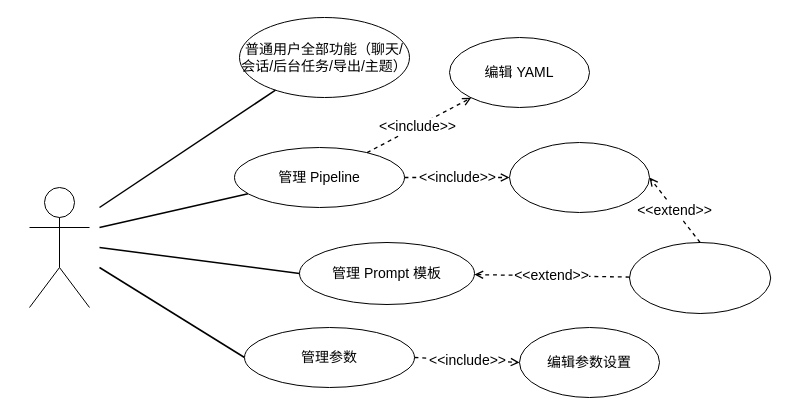
Image size: 789x415. Some labels were removed from this diagram. The shapes that lost their labels are listed below. From the top down, each one's centre as x and y in pixels, then its label:
At (579,177): "构建 Pipeline".
At (59,247): "系统构建用户".
At (699,278): "使用 AI 助手协作".
